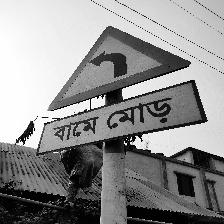Left-Turn: (38, 27, 206, 154)
